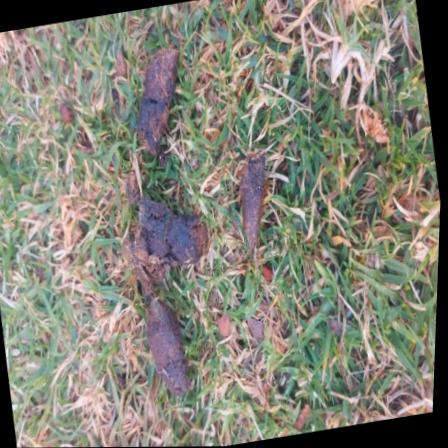dog-poop: (87, 30, 236, 404), (222, 147, 284, 252)
